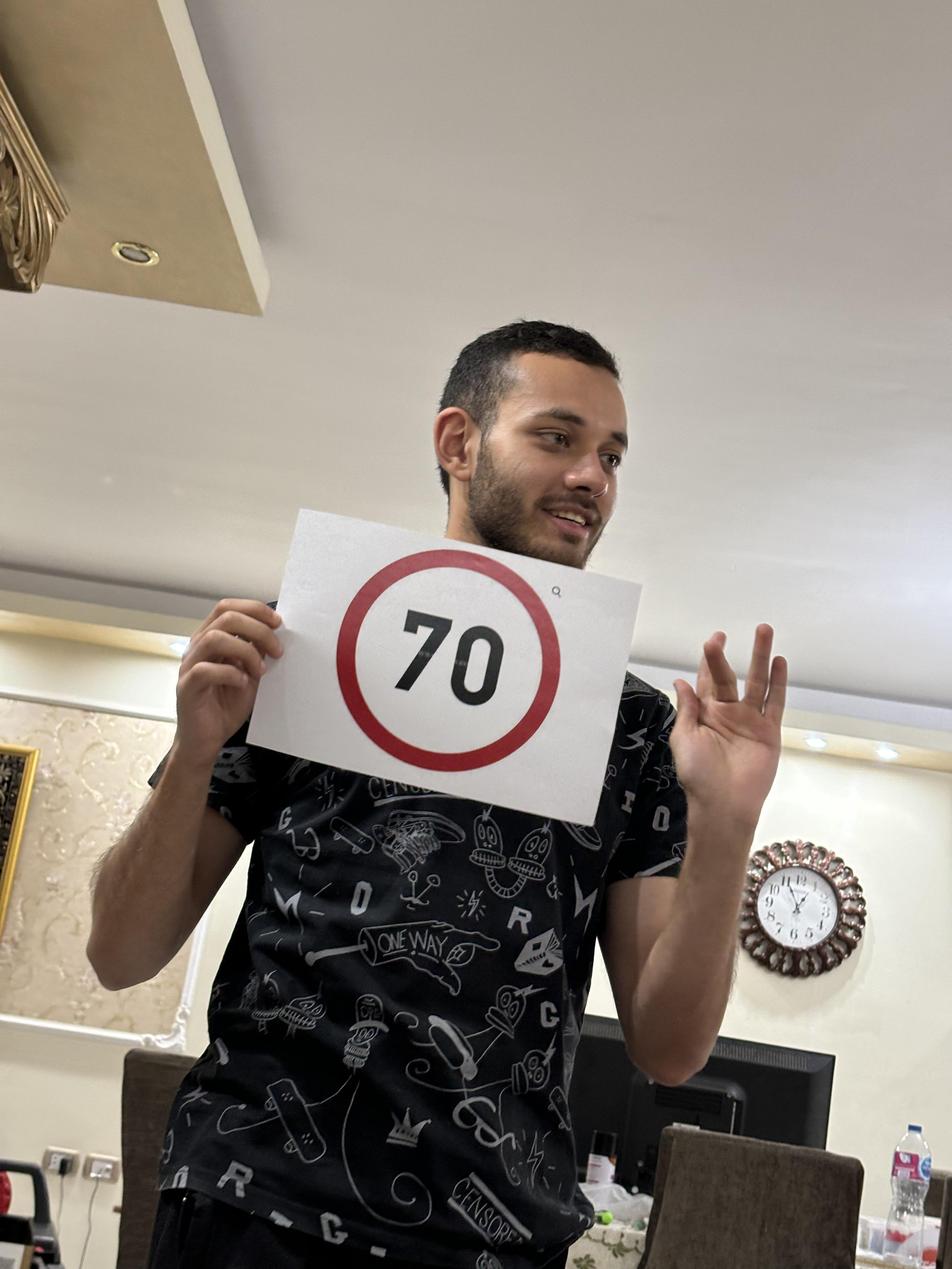70-Speed: (336, 545, 568, 778)
